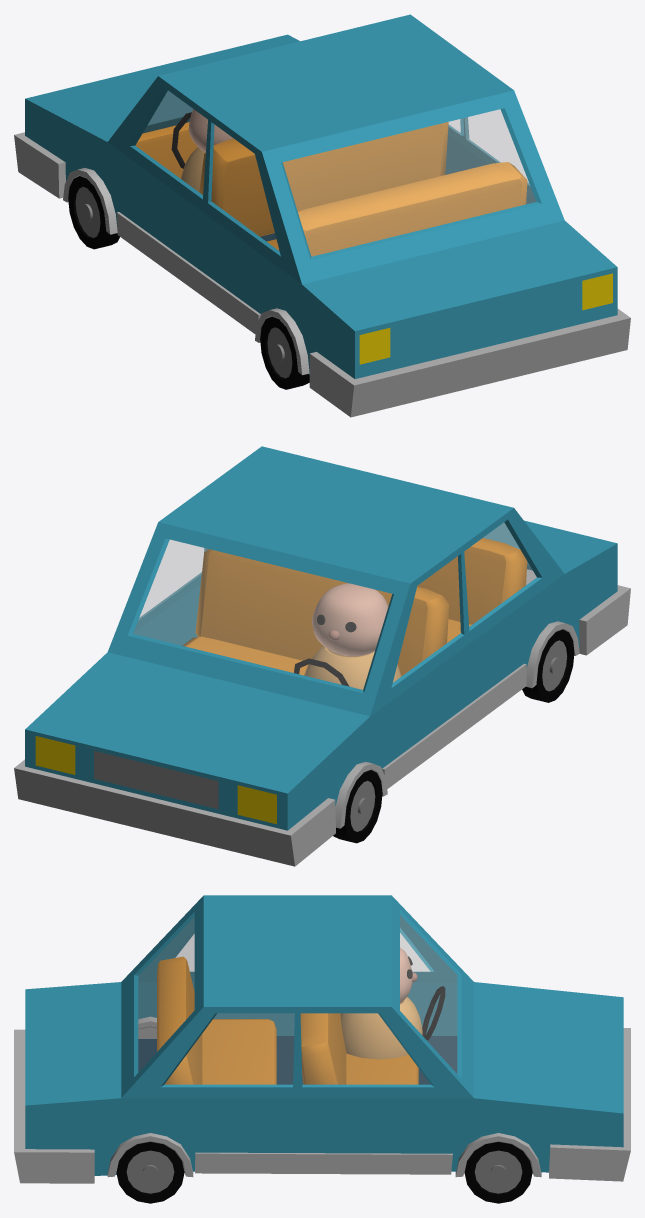
The model's file is car.fbx.
3 views of the same model, one above another, from view 1: azimuth 30°, elevation 25°; view 2: azimuth 150°, elevation 25°; view 3: azimuth 270°, elevation 25° (orthographic). The views are drawn at different scales.
Parts seen in each view (by area): view 1: Car, Client; view 2: Car, Client; view 3: Car, Client.
Part boxes in pixels (bbox=[...]): Car: bbox=[14, 14, 630, 417]; Client: bbox=[181, 109, 233, 191]; Car: bbox=[14, 446, 630, 866]; Client: bbox=[304, 583, 401, 689]; Car: bbox=[14, 895, 630, 1203]; Client: bbox=[340, 947, 422, 1059].
Size of the model in its own units: 723 by 523 by 1529.
